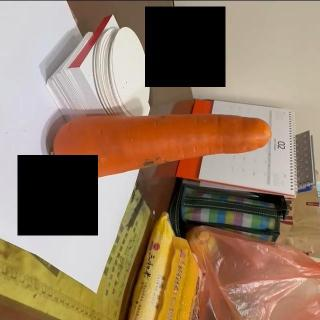carrot: (54, 111, 272, 179)
